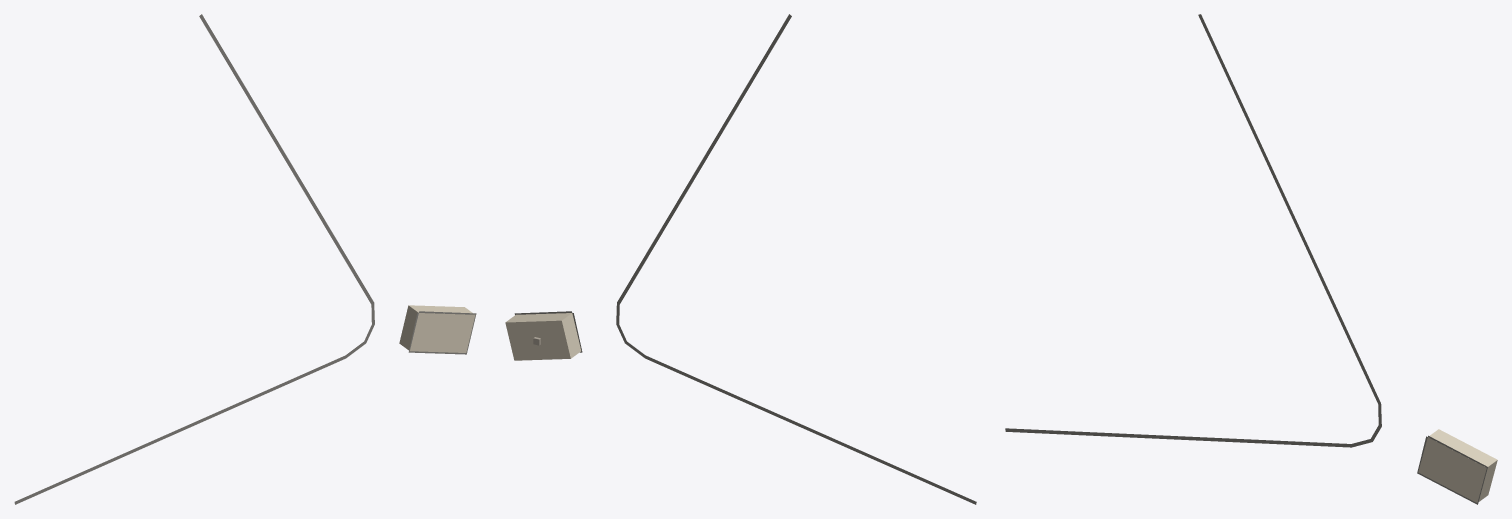
File: historic-palestine-05_18_3468_3122.glb
3 views of the same model, side by side, from view 1: azimuth 30°, elevation 25°; view 2: azimuth 150°, elevation 25°; view 3: azimuth 330°, elevation 25° (orthographic). The views are drawn at different scales.
Visible parts, largest first — view 1: Building_, Road .001; view 2: Building_, Road .001; view 3: Building_, Road .001.
Boxes of the visible parts, box(x1,y1,x2,y2) form: Building_: box(399, 305, 475, 352); Road .001: box(14, 14, 374, 504); Building_: box(505, 313, 581, 360); Road .001: box(616, 14, 976, 504); Building_: box(1418, 429, 1497, 502); Road .001: box(1005, 14, 1381, 447).
Bounding box in the file's own units: 190 × 175 × 8.7.
